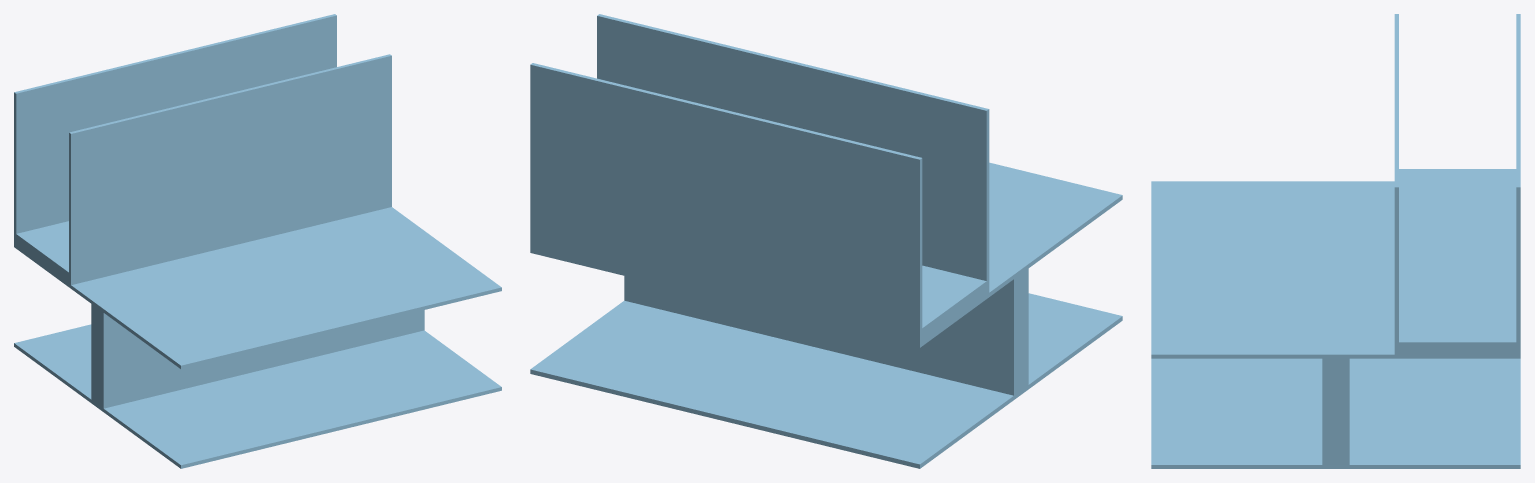
The picture shows the model from 3 angles, left to right: view 1: azimuth 30°, elevation 25°; view 2: azimuth 150°, elevation 25°; view 3: azimuth 270°, elevation 25°; orthographic projection. The views are drawn at different scales.
Parts seen in each view (by area): view 1: 6174c1602c364d299110f3b3 (×3); view 2: 6174c1602c364d299110f3b3 (×3); view 3: 6174c1602c364d299110f3b3 (×3).
Boxes of the visible parts, x1,y1,x2,y2 form: 6174c1602c364d299110f3b3 (×3): (14, 14, 501, 468); 6174c1602c364d299110f3b3 (×3): (530, 14, 1122, 468); 6174c1602c364d299110f3b3 (×3): (1151, 14, 1520, 468).
Size of the model in its own units: 0.091 by 0.082 by 0.069.
